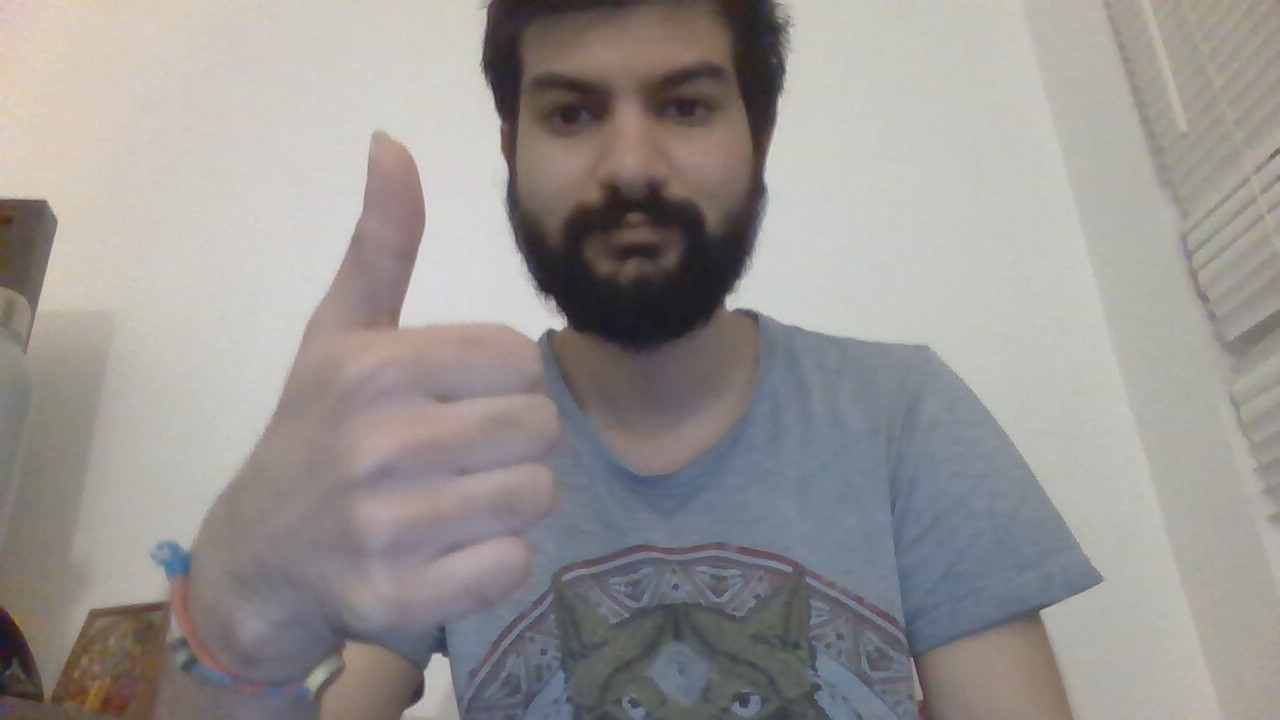up: (239, 125, 566, 648)
